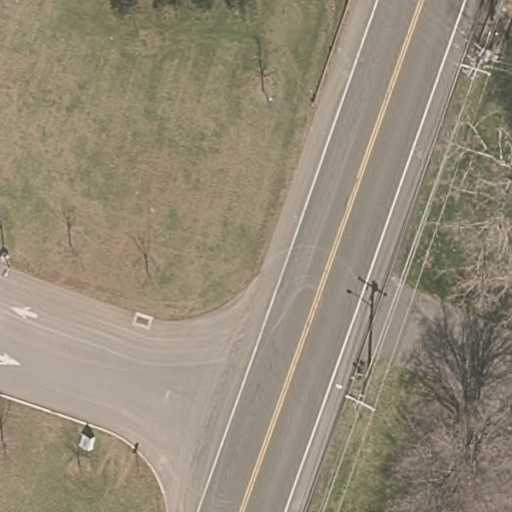DT: (345, 390, 379, 413)
